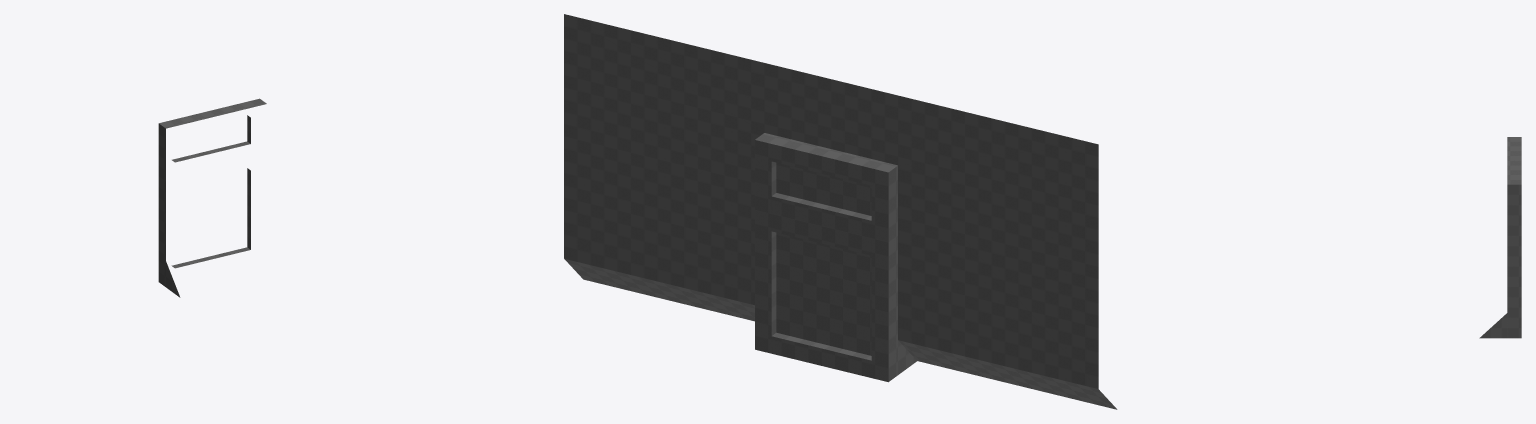
The picture shows the model from 3 angles, left to right: view 1: azimuth 30°, elevation 25°; view 2: azimuth 150°, elevation 25°; view 3: azimuth 270°, elevation 25°; orthographic projection. The views are drawn at different scales.
Parts seen in each view (by area): view 1: CubeDownBackV1; view 2: CubeDownBackV1; view 3: CubeDownBackV1.
Boxes of the visible parts, x1,y1,x2,y2 form: CubeDownBackV1: (158,98,266,297); CubeDownBackV1: (564,14,1117,409); CubeDownBackV1: (1479,137,1521,338).
Size of the model in its own units: 4 by 2 by 2.12.
Materials: 1 (1 with a texture image).
